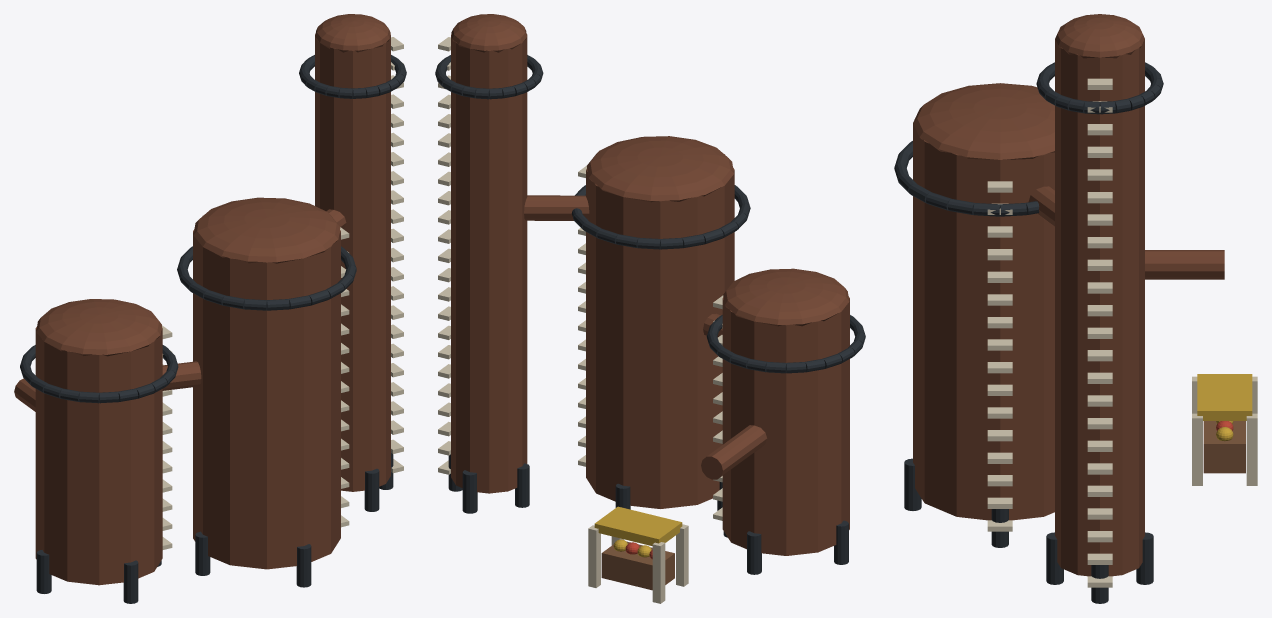
The model's file is gas-guzzlers.glb.
The picture shows the model from 3 angles, left to right: view 1: azimuth 30°, elevation 25°; view 2: azimuth 150°, elevation 25°; view 3: azimuth 270°, elevation 25°; orthographic projection. The views are drawn at different scales.
Visible parts, largest first — view 1: gas-guzzlers; view 2: gas-guzzlers; view 3: gas-guzzlers.
Part boxes in pixels (x1=…): gas-guzzlers: x1=14, y1=14, x2=406, y2=603; gas-guzzlers: x1=435, y1=14, x2=865, y2=603; gas-guzzlers: x1=894, y1=14, x2=1257, y2=603.
Size of the model in its own units: 21.3 by 24.7 by 14.57.
